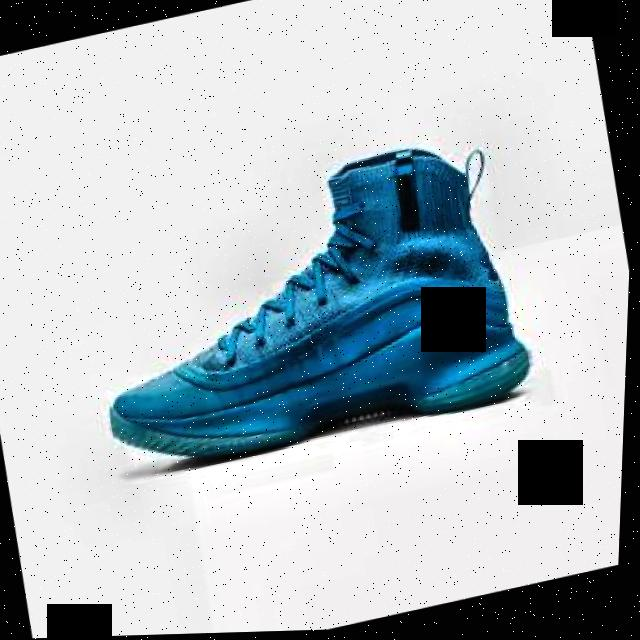shoe: (72, 129, 549, 488)
